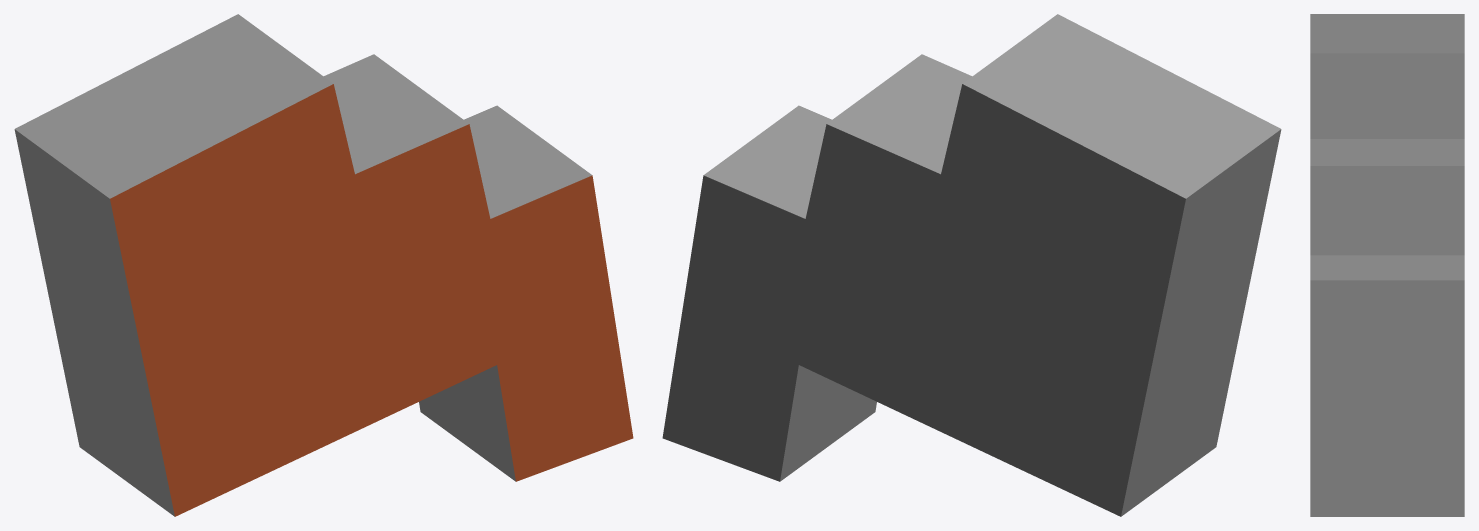
Rendered from construction_6210_assumed_A_Casa_h6m.obj.
The picture shows the model from 3 angles, left to right: view 1: azimuth 30°, elevation 25°; view 2: azimuth 150°, elevation 25°; view 3: azimuth 270°, elevation 25°; orthographic projection. The views are drawn at different scales.
Parts seen in each view (by area): view 1: construction_6210_assumed_A_Casa; view 2: construction_6210_assumed_A_Casa; view 3: construction_6210_assumed_A_Casa.
Boxes of the visible parts, <box> form: construction_6210_assumed_A_Casa: <box>14,14,633,516</box>; construction_6210_assumed_A_Casa: <box>662,14,1281,516</box>; construction_6210_assumed_A_Casa: <box>1310,14,1464,516</box>.
Bounding box in the file's own units: 19 × 15.35 × 6.
